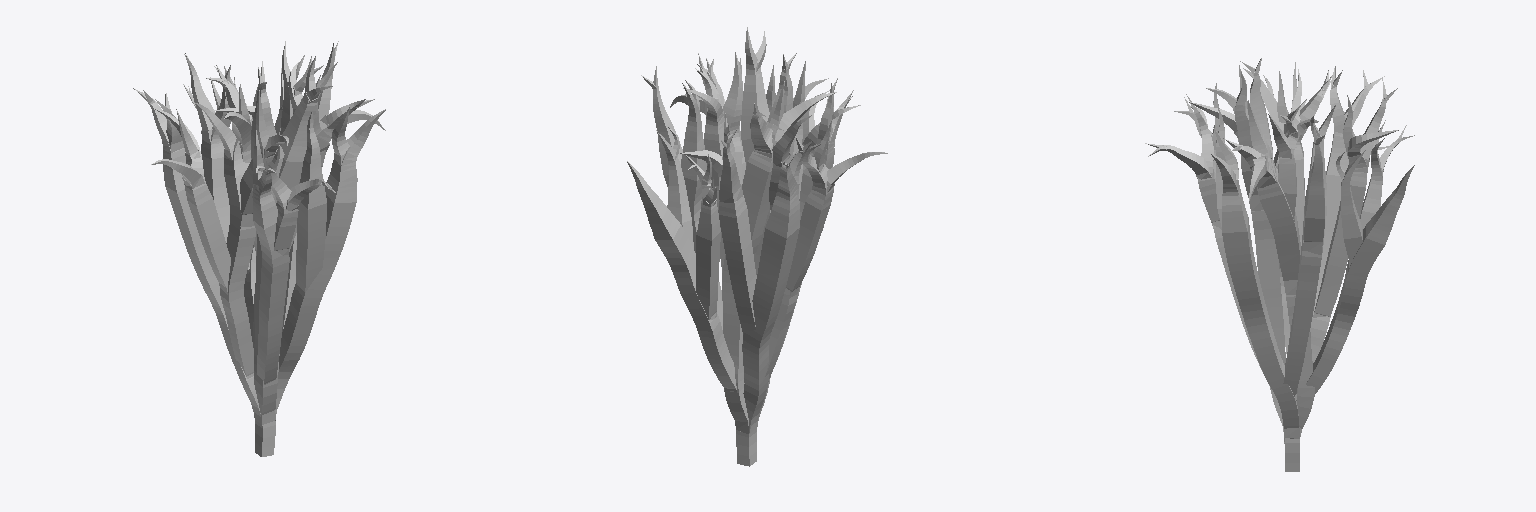
File: bendytree_000005.obj
The picture shows the model from 3 angles: view 1: azimuth 30°, elevation 25°; view 2: azimuth 150°, elevation 25°; view 3: azimuth 270°, elevation 25°; orthographic projection.
Visible parts, largest first — view 1: treemesh_treemesh.001; view 2: treemesh_treemesh.001; view 3: treemesh_treemesh.001.
Boxes of the visible parts, x1=… form: treemesh_treemesh.001: x1=133, y1=41, x2=385, y2=456; treemesh_treemesh.001: x1=627, y1=27, x2=887, y2=466; treemesh_treemesh.001: x1=1145, y1=58, x2=1414, y2=471.
Size of the model in its own units: 3.77 by 6.5 by 3.87.